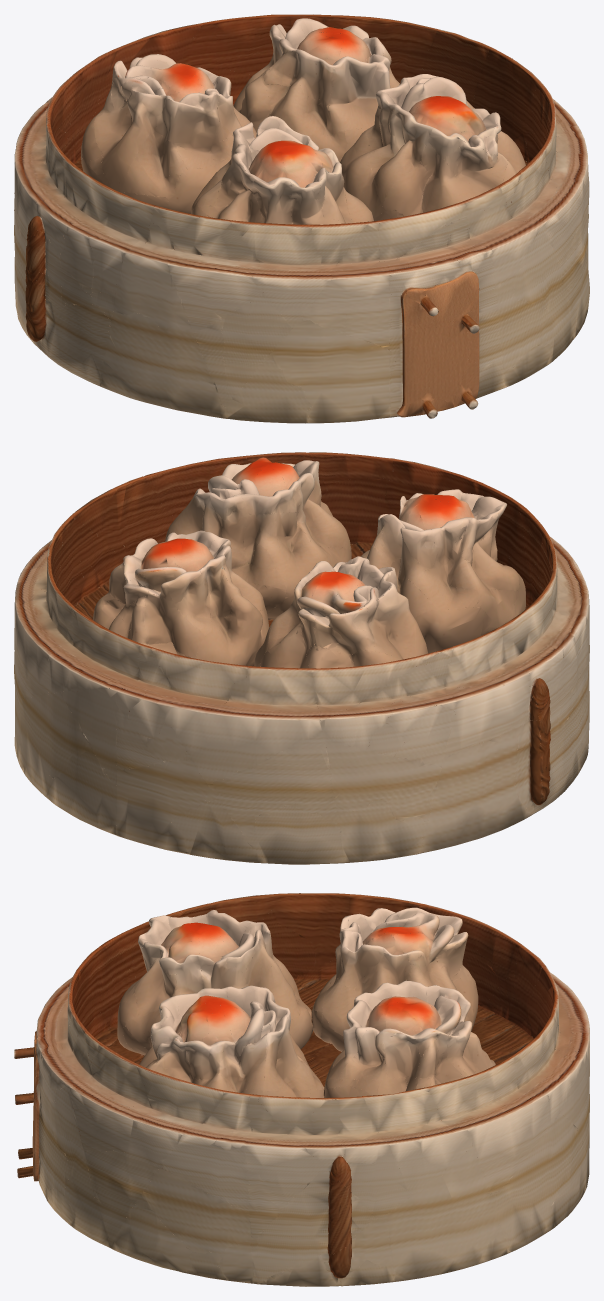
File: dimsim.glb
The picture shows the model from 3 angles, top to bottom: view 1: azimuth 30°, elevation 25°; view 2: azimuth 150°, elevation 25°; view 3: azimuth 270°, elevation 25°; orthographic projection. The views are drawn at different scales.
Parts seen in each view (by area): view 1: mesh_node; view 2: mesh_node; view 3: mesh_node.
Boxes of the visible parts, box(x1,y1,x2,y2) form: mesh_node: box(14, 14, 589, 423); mesh_node: box(14, 452, 589, 864); mesh_node: box(14, 893, 589, 1286).
Bounding box in the file's own units: 0.2935 × 0.12 × 0.294.
Materials: 1 (1 with a texture image).
